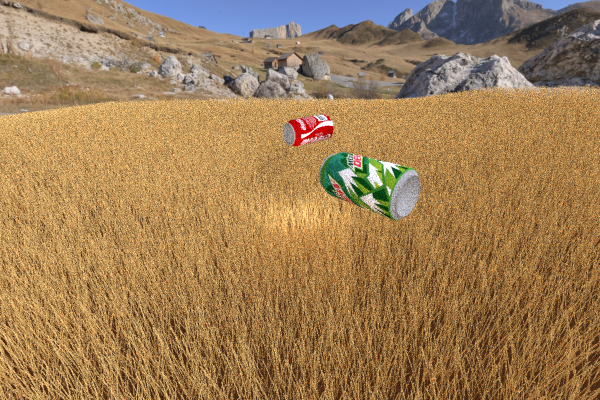Plastic Bottle: (0, 193, 120, 298), (318, 152, 420, 220), (282, 114, 333, 146)
